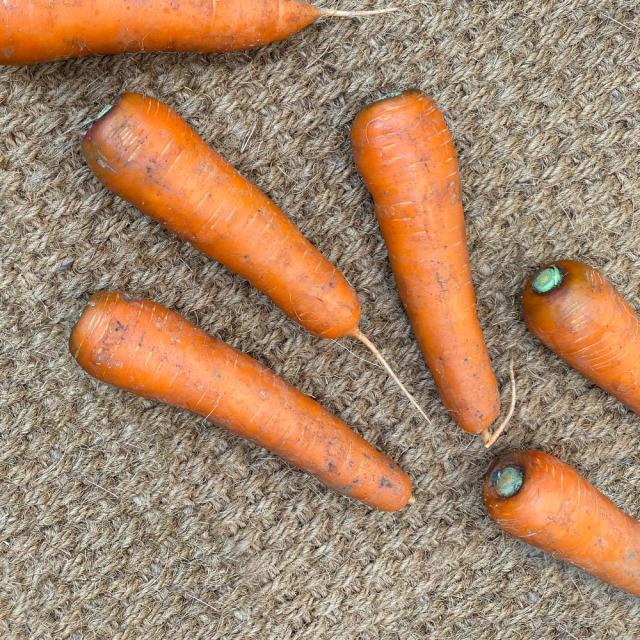carrot: (79, 92, 383, 357), (69, 291, 428, 512), (355, 86, 512, 439), (477, 449, 640, 611), (0, 4, 348, 68), (521, 261, 640, 410)
